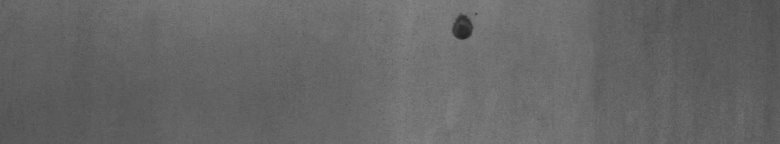fi: (445, 7, 480, 48)
